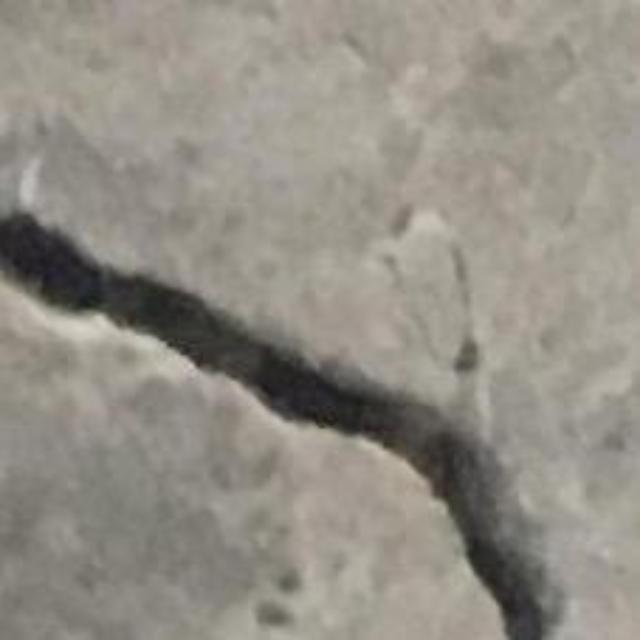crack: (0, 206, 563, 639), (0, 403, 404, 640)
